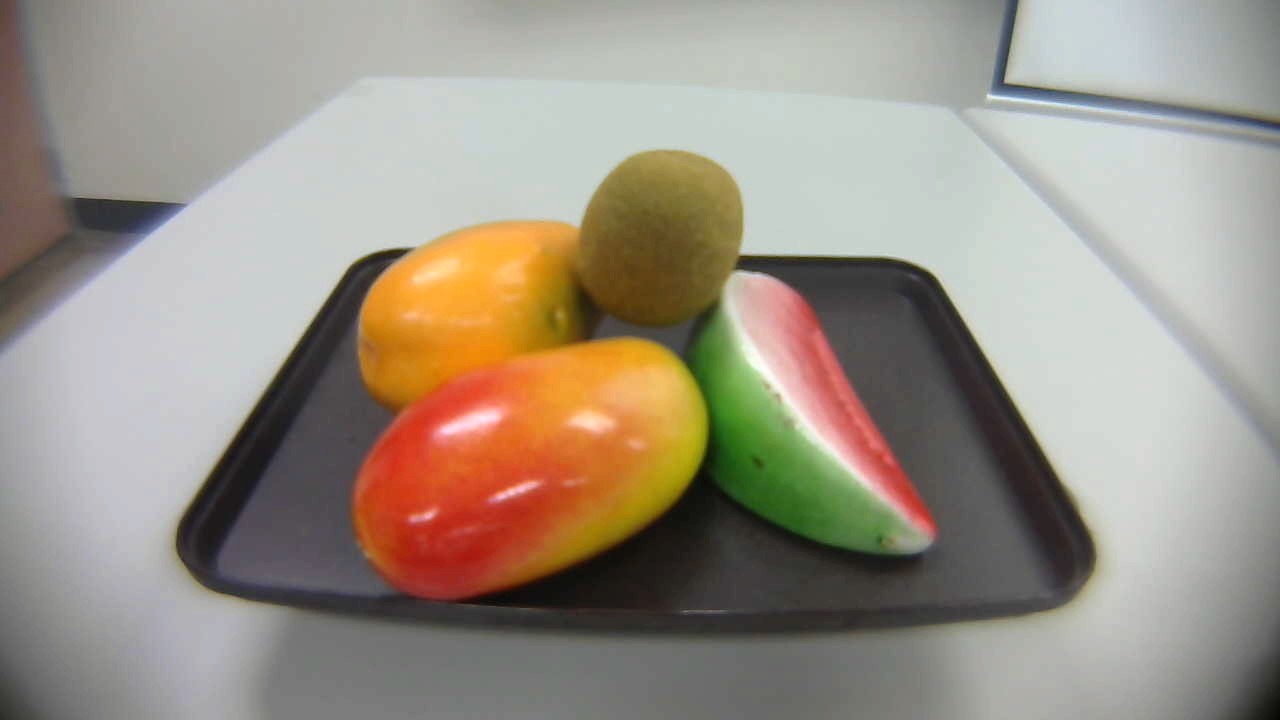kiwi fruit: (564, 146, 742, 334)
papya: (340, 217, 607, 419)
red mango: (340, 335, 718, 608)
water melon: (690, 269, 939, 566)
